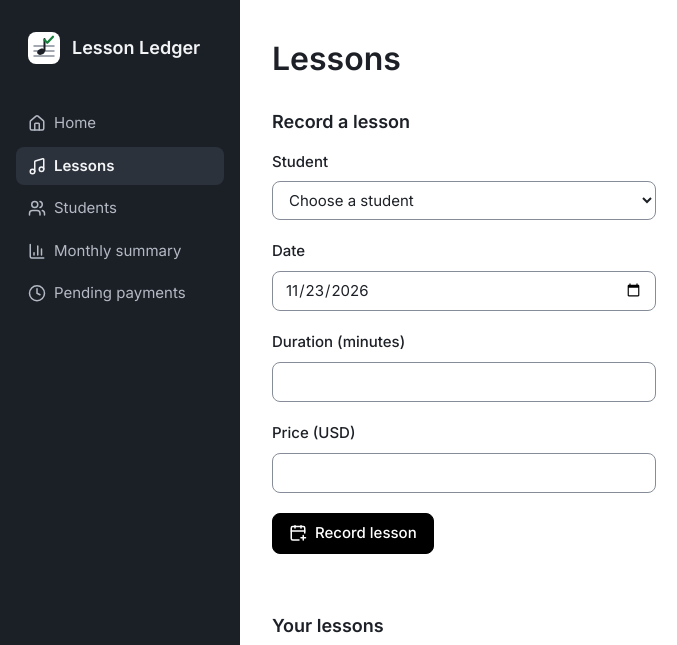
Test: AC-3 lesson form errors › rejects an empty date without a request
Check: the heading "Lessons" is shown, box [272,39,401,78]
Select "Zoe Park" in the dropdown labelled "Student" at (464, 201), box [272,181,656,220]
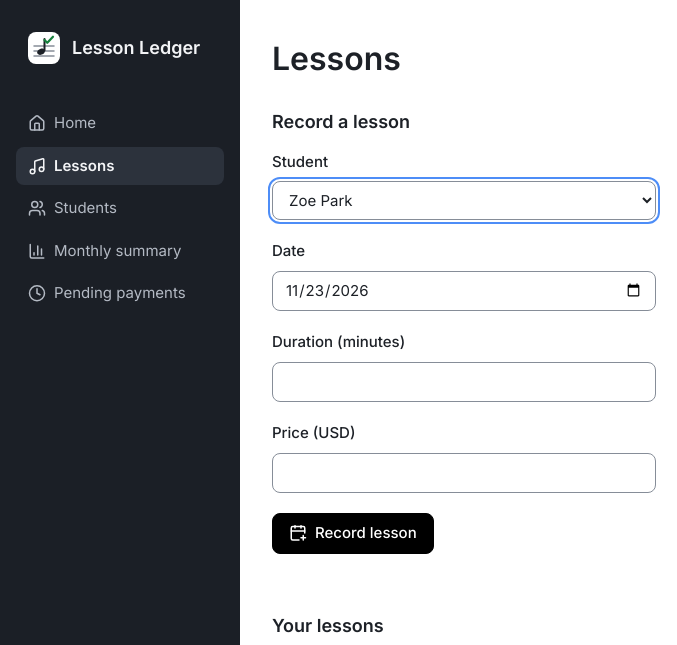
Clear the date field labelled "Date" at (464, 291), box [272,271,656,311]
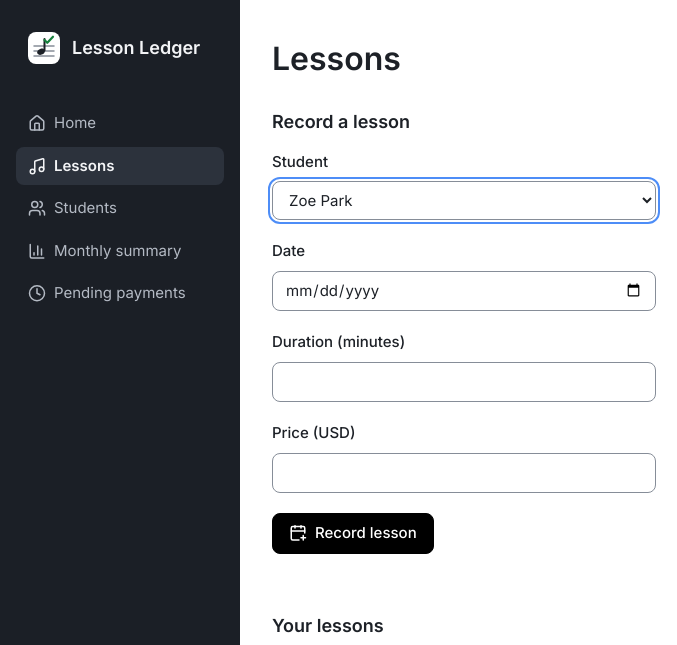
Type "45" into the field labelled "Duration (minutes)" at (464, 382), box [272,362,656,402]
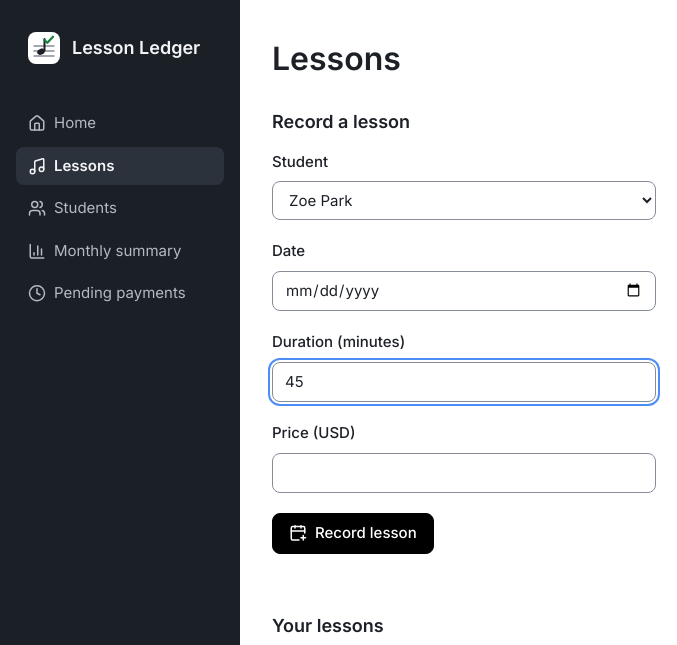
Type "42.5" into the field labelled "Price (USD)" at (464, 473), box [272,453,656,493]
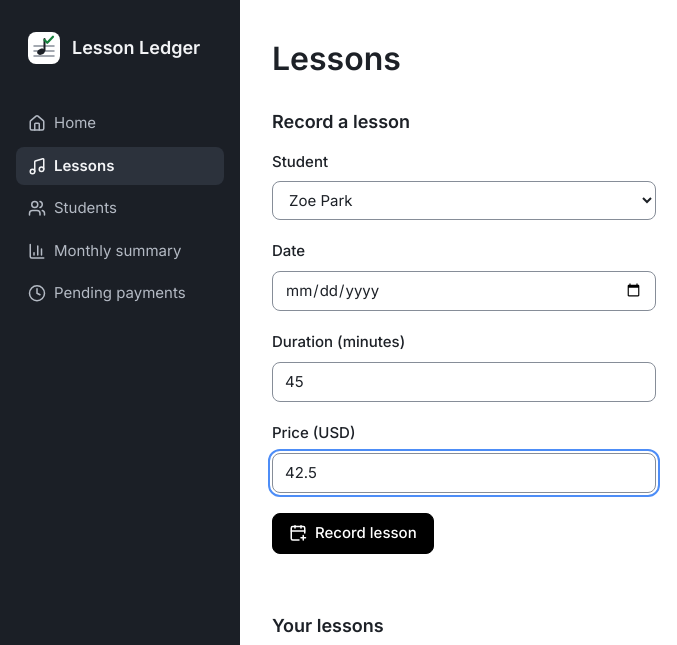
Click the button "Record lesson" at (353, 533), box [272,513,434,554]
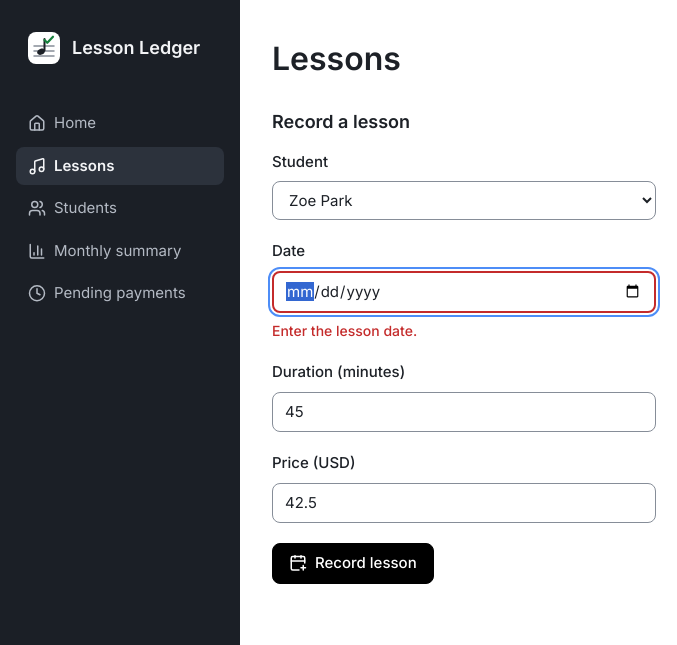
Type "2026-11-04" into the date field labelled "Date" at (464, 292), box [272,271,656,313]
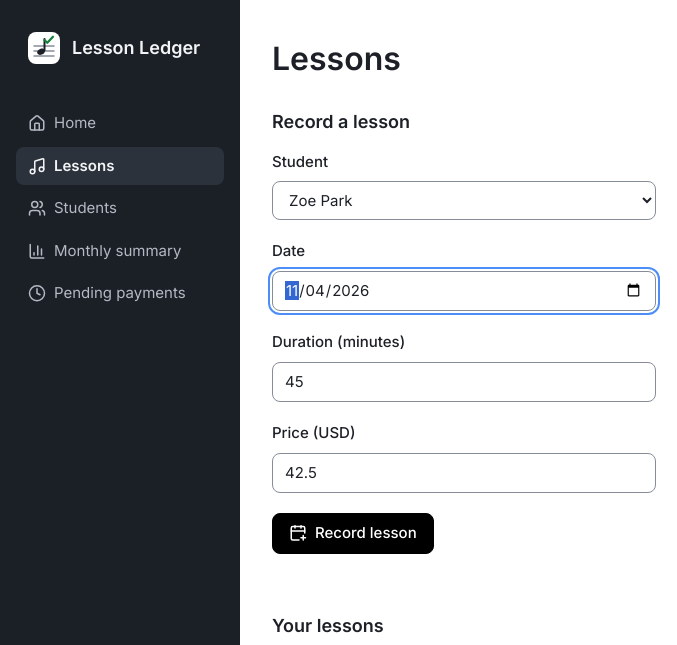
Check: the text "Enter the lesson date." is gone
